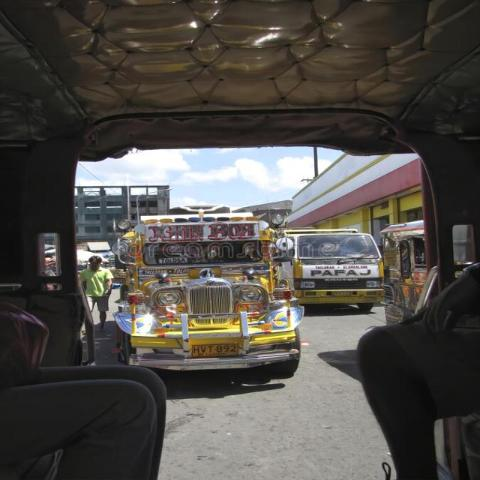jeepney: (113, 214, 311, 386), (381, 219, 436, 331)
truck: (290, 232, 386, 309)
